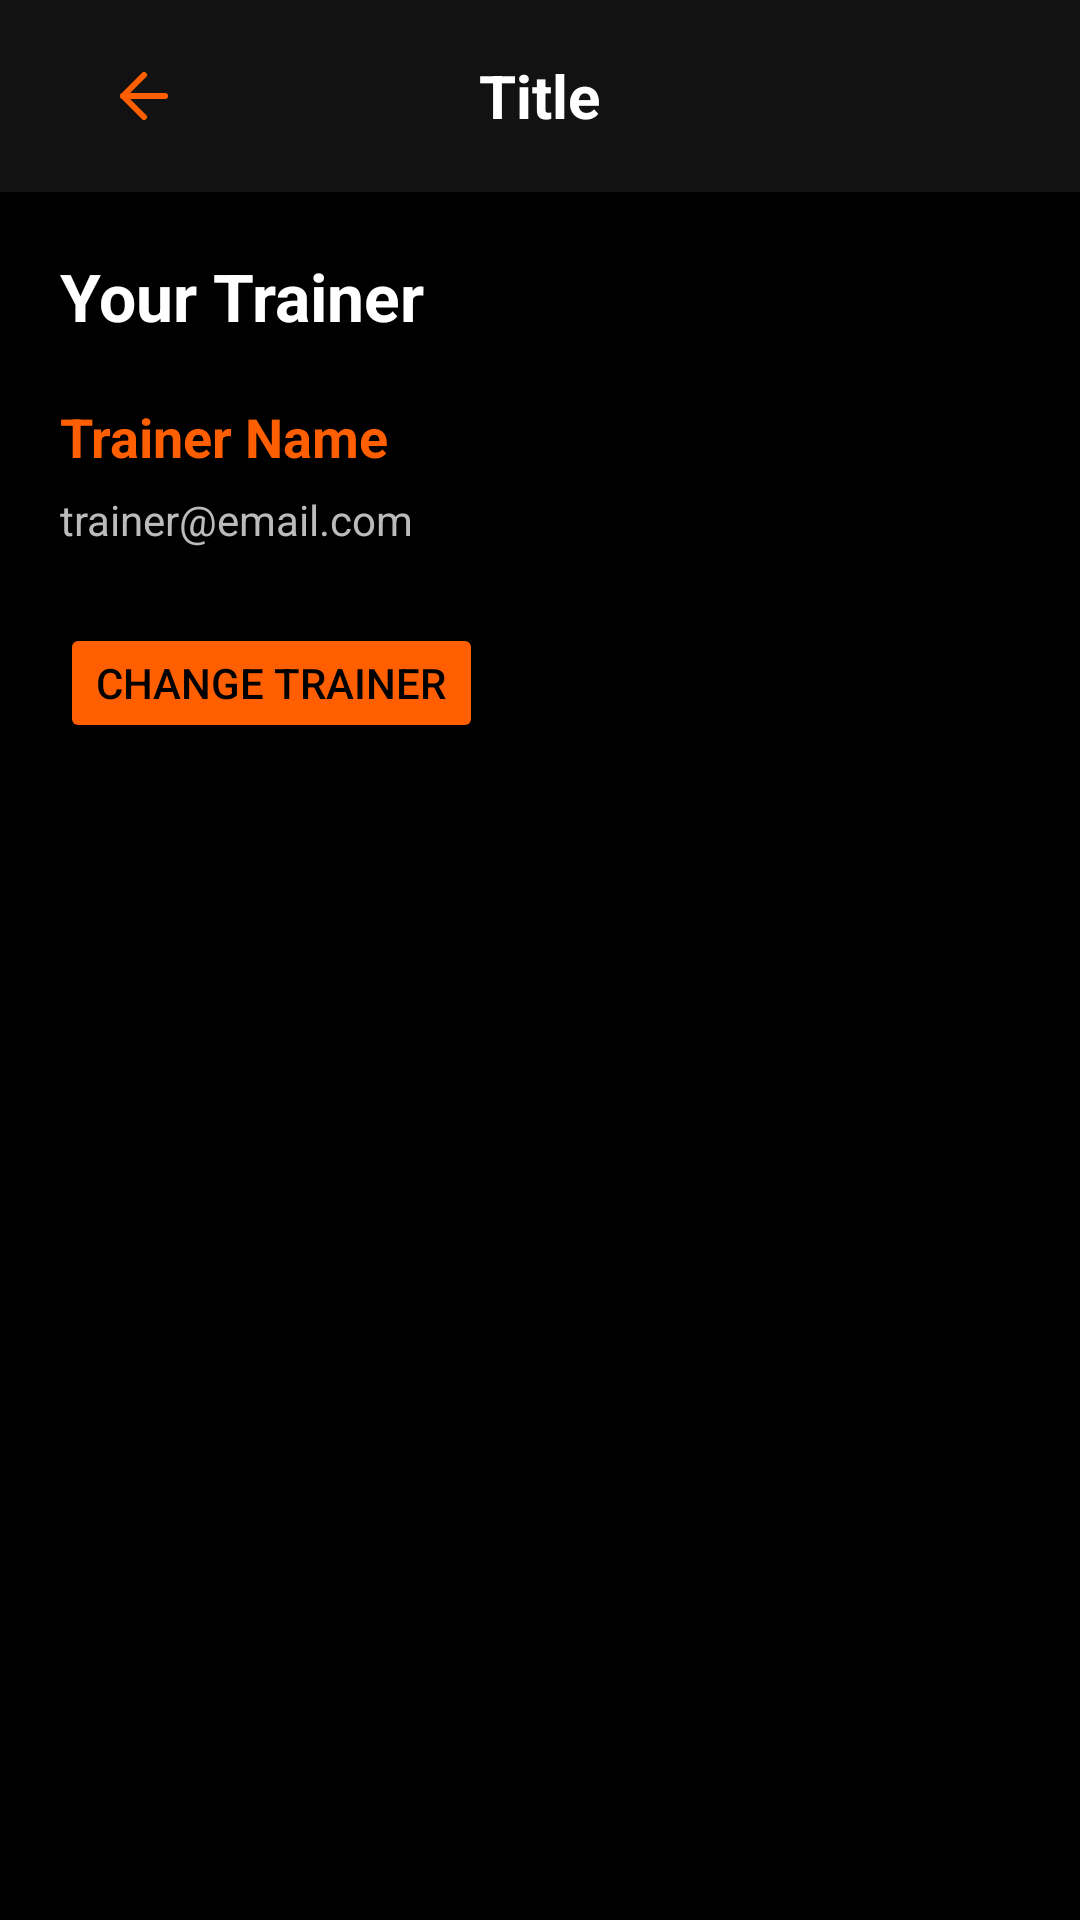

Screen size 1080×1920. Icon name, then its center in pixels as (x=x, y=y):
go back: (x=144, y=96)
